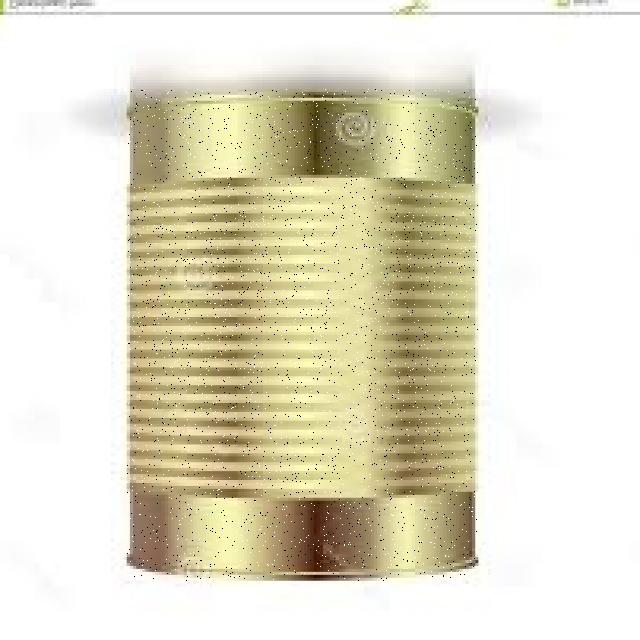metal: (127, 89, 478, 581)
